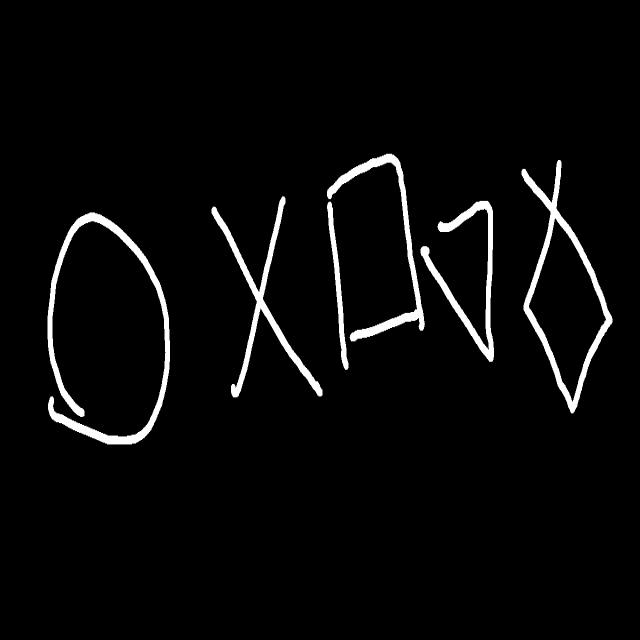circle: (47, 212, 170, 444)
cross: (212, 196, 322, 397)
diamond: (522, 161, 612, 413)
rectangle: (328, 154, 424, 368)
triangle: (421, 202, 494, 361)
